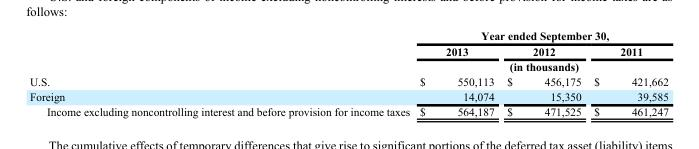table: (28, 29, 667, 117)
table column: (28, 29, 414, 117), (499, 29, 587, 117), (414, 29, 499, 117), (587, 29, 667, 117)
table column header: (28, 29, 667, 73)
table row: (28, 43, 667, 58), (28, 58, 667, 73), (28, 73, 667, 88), (28, 88, 667, 103), (28, 29, 667, 43), (28, 103, 667, 117)
table spanning cell: (414, 58, 667, 73), (414, 29, 667, 43)
